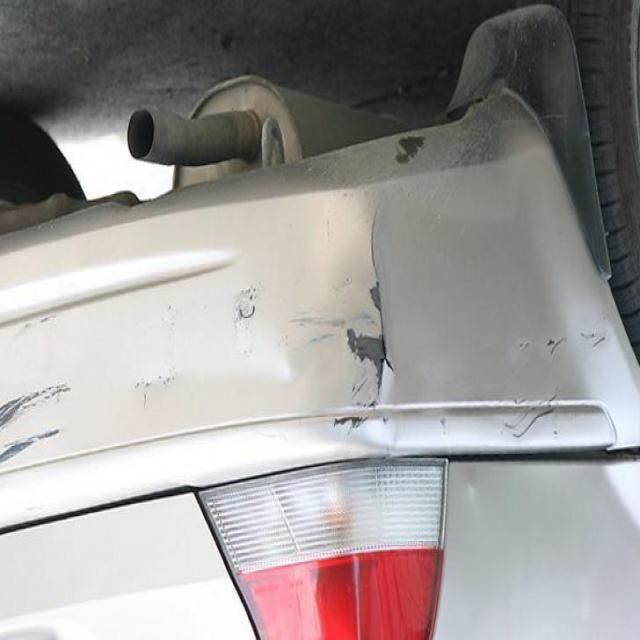scratch: (314, 185, 422, 454), (0, 338, 92, 479), (382, 124, 432, 186)
